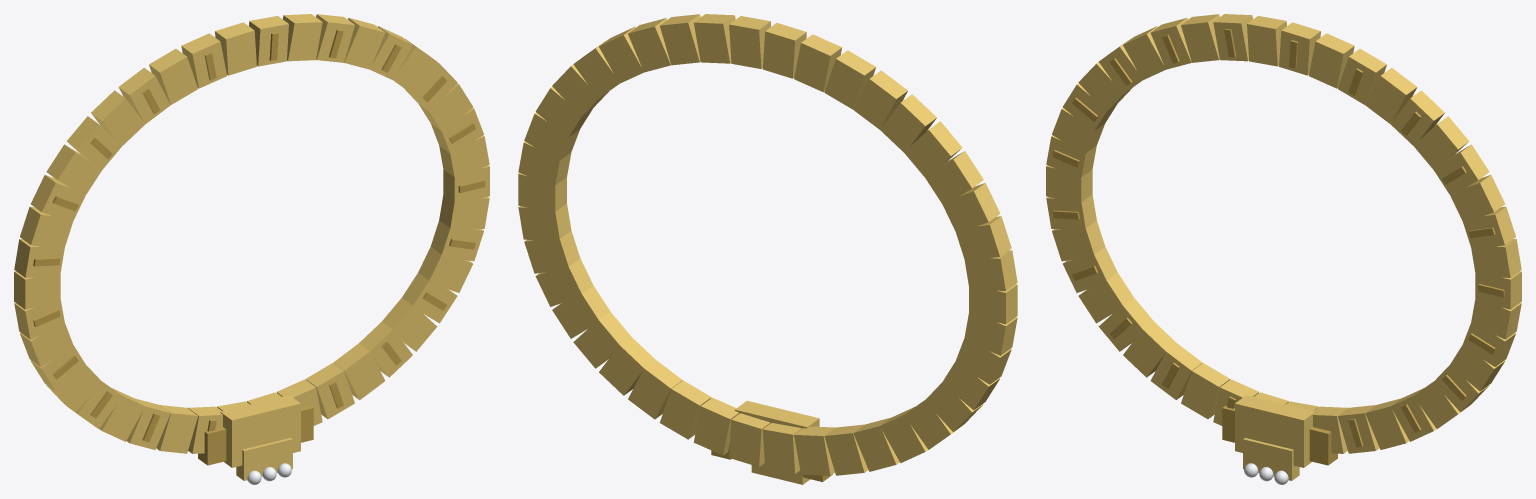
File: lumeire_bracelet_3d.glb
3 views of the same model, side by side, from view 1: azimuth 30°, elevation 25°; view 2: azimuth 150°, elevation 25°; view 3: azimuth 330°, elevation 25° (orthographic). The views are drawn at different scales.
Parts seen in each view (by area): view 1: world; view 2: world; view 3: world.
Part boxes in pixels (left/top/right/bottom): world: left=14, top=14, right=489, bottom=484; world: left=518, top=14, right=1017, bottom=484; world: left=1046, top=14, right=1521, bottom=484.
Bounding box in the file's own units: 5.52 × 5.02 × 0.55.
